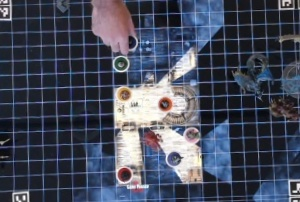blue: (120, 33, 139, 51)
green: (111, 53, 131, 72)
orange: (156, 95, 176, 111)
pink: (181, 124, 198, 142)
red: (115, 163, 131, 184)
violet: (163, 148, 181, 168)
yellow: (114, 83, 133, 102)
